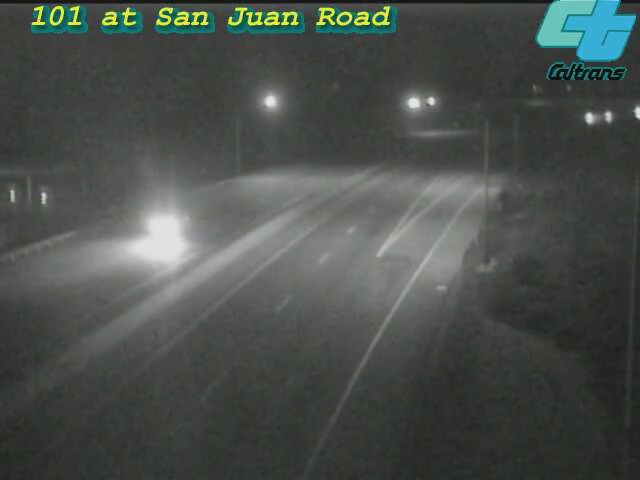vehicle: (124, 193, 204, 273), (583, 90, 633, 140), (565, 94, 615, 144), (611, 89, 640, 139)
